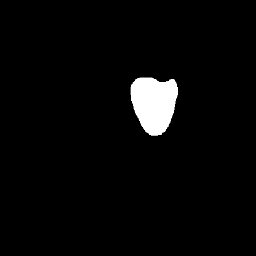mass: (132, 78, 175, 134)
